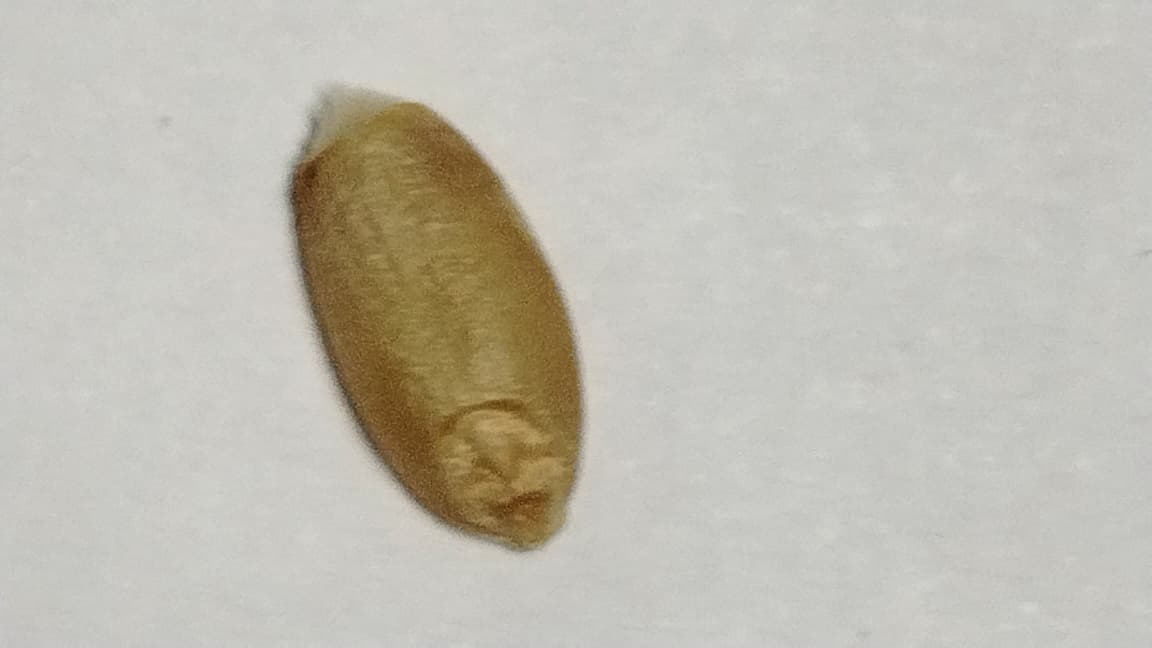healthy: (289, 84, 583, 549)
